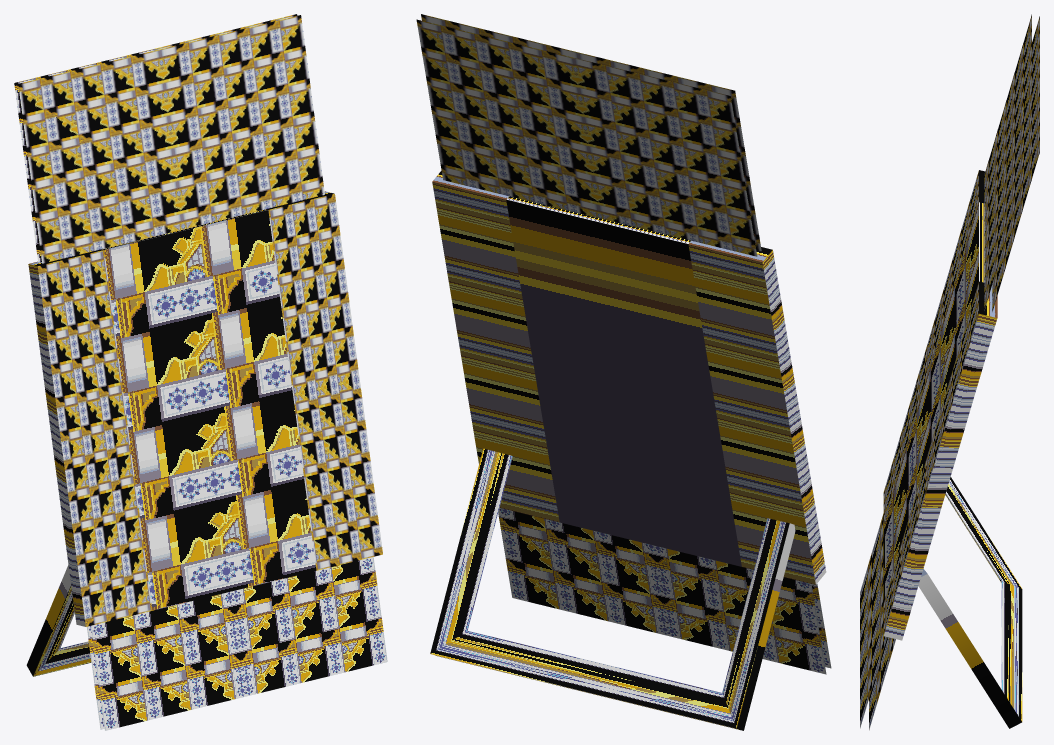
File: 3733kg_ar_mir.gltf
3 renders of one model, left to right at view 1: azimuth 30°, elevation 25°; view 2: azimuth 150°, elevation 25°; view 3: azimuth 270°, elevation 25°, orthographic. The views are drawn at different scales.
Visible parts, largest first — view 1: 3733kg_ar_mir; view 2: 3733kg_ar_mir; view 3: 3733kg_ar_mir.
Boxes of the visible parts, <box> form: 3733kg_ar_mir: <box>14,14,387,730</box>; 3733kg_ar_mir: <box>416,14,831,730</box>; 3733kg_ar_mir: <box>860,14,1039,730</box>.
Size of the model in its own units: 0.8843 by 1.66 by 0.4673.
1 material, 1 textured.
